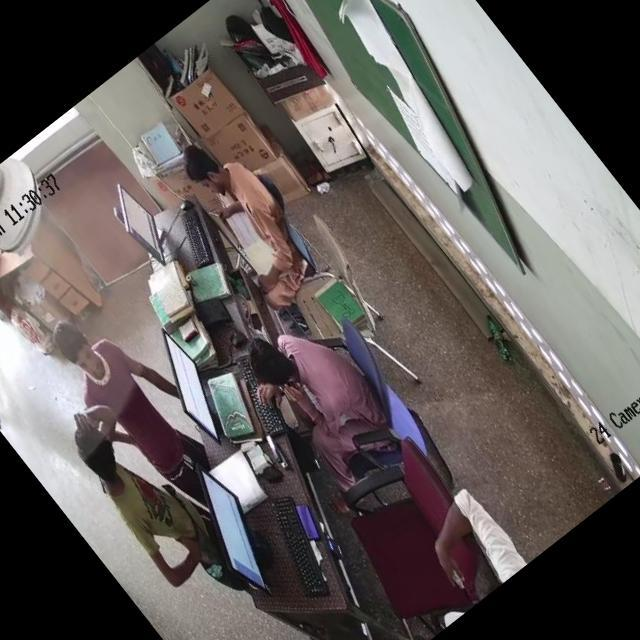person: (168, 118, 331, 304), (57, 322, 184, 467), (68, 413, 190, 549), (256, 305, 380, 432)
